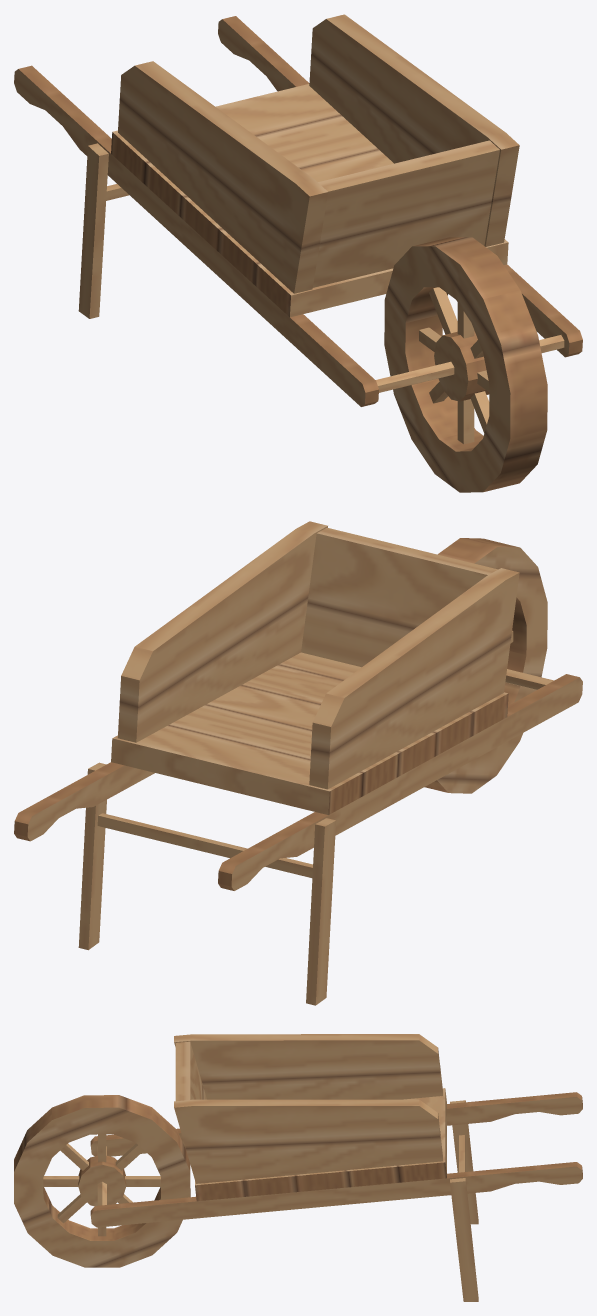
The model's file is Wheelbarrow_v2.fbx.
The picture shows the model from 3 angles, top to bottom: view 1: azimuth 30°, elevation 25°; view 2: azimuth 150°, elevation 25°; view 3: azimuth 270°, elevation 25°; orthographic projection. The views are drawn at different scales.
Parts seen in each view (by area): view 1: pPipe7; view 2: pPipe7; view 3: pPipe7.
Part boxes in pixels (x1=…): pPipe7: x1=14, y1=14, x2=582, y2=492; pPipe7: x1=14, y1=521, x2=582, y2=1005; pPipe7: x1=14, y1=1034, x2=582, y2=1301.
Size of the model in its own units: 1.6 by 1.76 by 4.75.
Materials: 1 (1 with a texture image).
